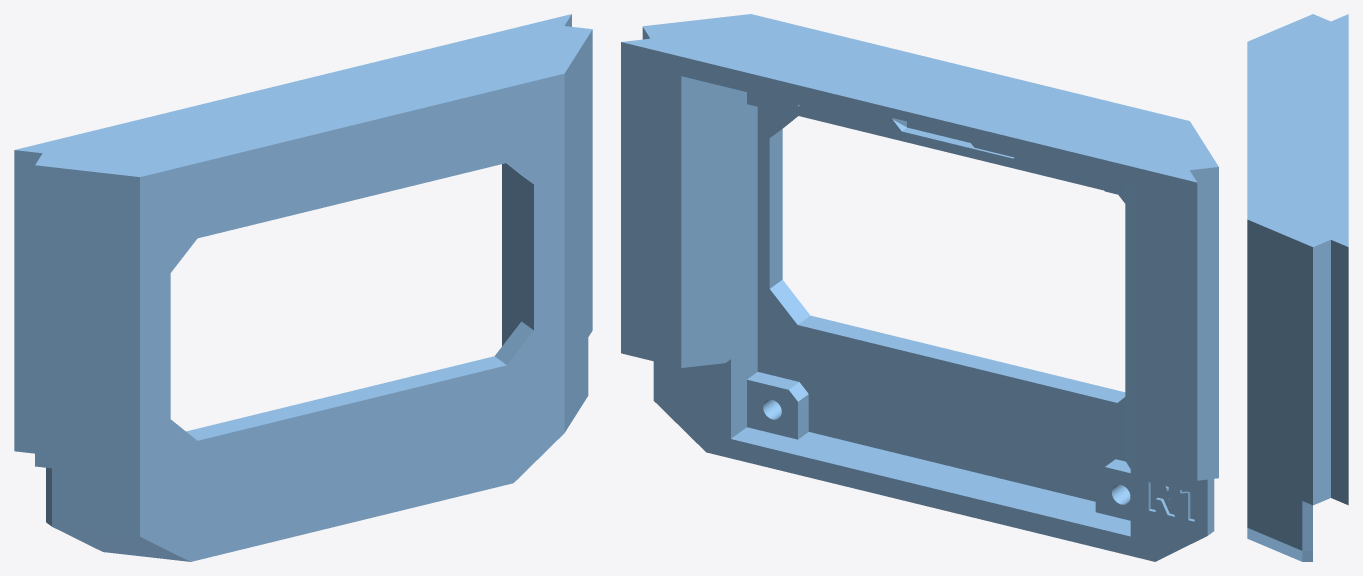
Rendered from Face-display.glb.
The picture shows the model from 3 angles, left to right: view 1: azimuth 30°, elevation 25°; view 2: azimuth 150°, elevation 25°; view 3: azimuth 270°, elevation 25°; orthographic projection. The views are drawn at different scales.
Parts seen in each view (by area): view 1: Node1; view 2: Node1; view 3: Node1.
Boxes of the visible parts, <box> form: Node1: <box>14,14,592,561</box>; Node1: <box>621,14,1218,561</box>; Node1: <box>1247,14,1348,561</box>.
Bounding box in the file's own units: 62 × 42.2 × 11.4.
